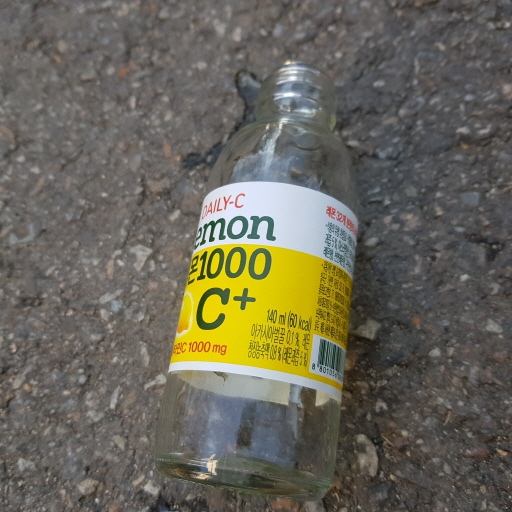Glass_4: (162, 60, 367, 494)
